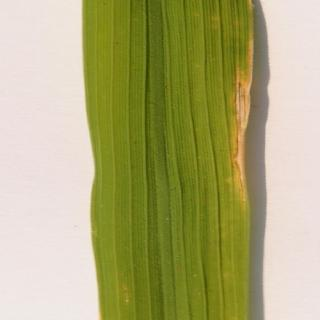Hawar-Daun: (220, 63, 262, 207)
